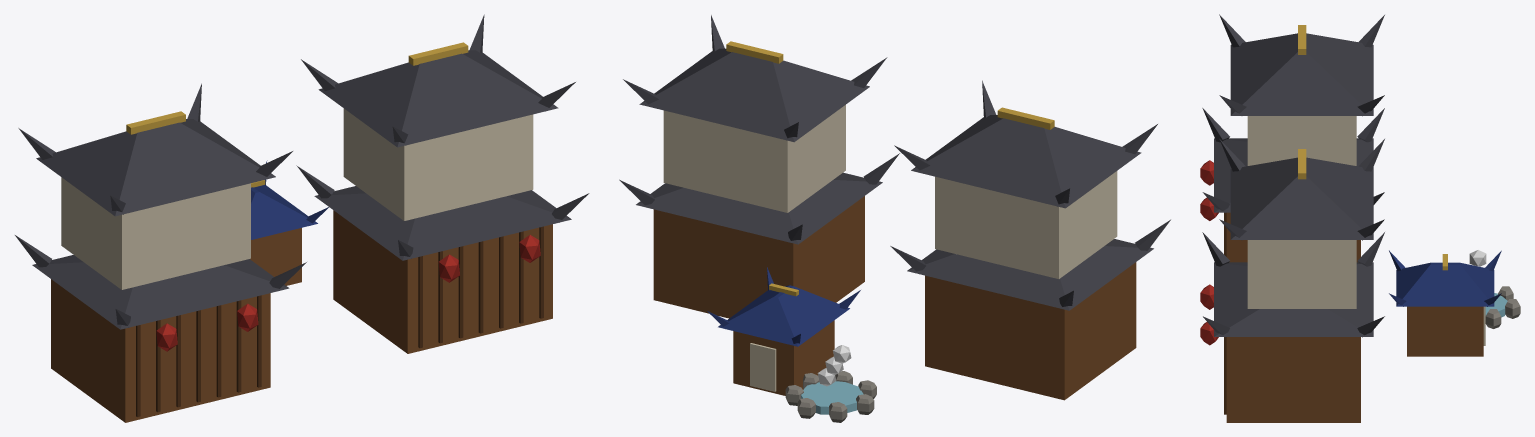
Rendered from macaque_row.glb.
The picture shows the model from 3 angles, left to right: view 1: azimuth 30°, elevation 25°; view 2: azimuth 150°, elevation 25°; view 3: azimuth 270°, elevation 25°; orthographic projection. The views are drawn at different scales.
Visible parts, largest first — view 1: macaque_row; view 2: macaque_row; view 3: macaque_row.
Boxes of the visible parts, x1=… form: macaque_row: x1=15, y1=14, x2=589, y2=422; macaque_row: x1=619, y1=15, x2=1170, y2=422; macaque_row: x1=1200, y1=14, x2=1520, y2=422.
Bounding box in the file's own units: 5.88 × 3.02 × 3.81.
